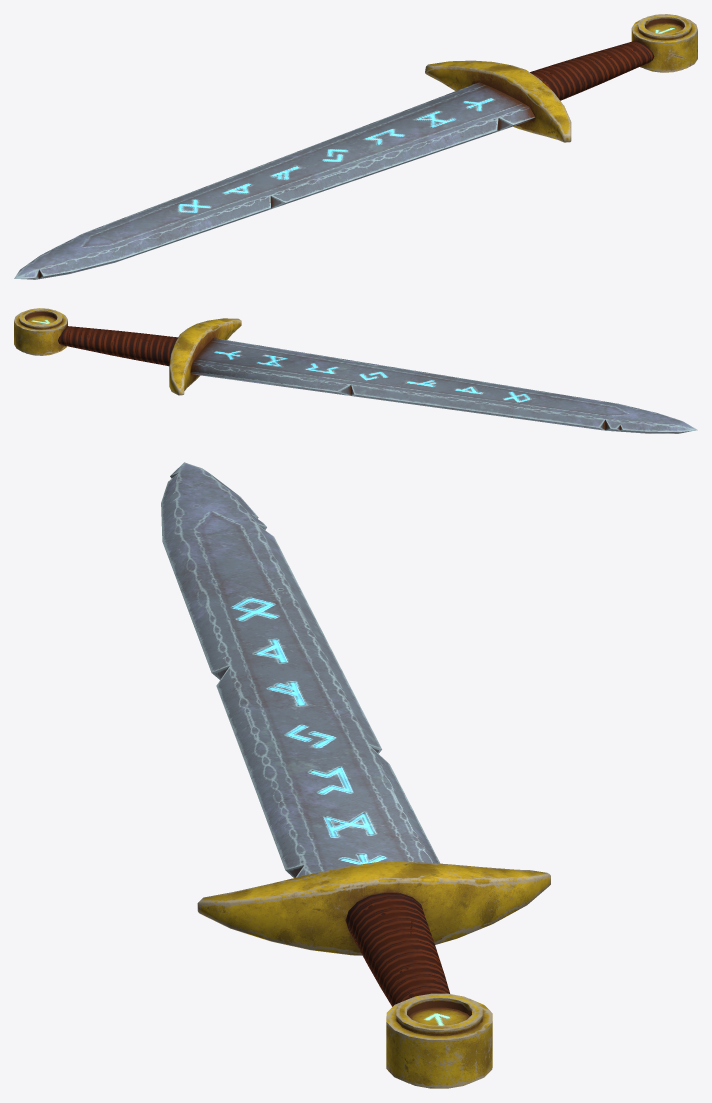
Rendered from viking_rune_sword.glb.
The picture shows the model from 3 angles, top to bottom: view 1: azimuth 30°, elevation 25°; view 2: azimuth 150°, elevation 25°; view 3: azimuth 270°, elevation 25°; orthographic projection. The views are drawn at different scales.
Parts seen in each view (by area): view 1: Sword_low; view 2: Sword_low; view 3: Sword_low.
Boxes of the visible parts, x1=… form: Sword_low: x1=14, y1=14, x2=697, y2=279; Sword_low: x1=14, y1=308, x2=697, y2=433; Sword_low: x1=161, y1=462, x2=550, y2=1088.
Size of the model in its own units: 0.9763 by 0.0582 by 0.2675.
1 material, 1 textured.
